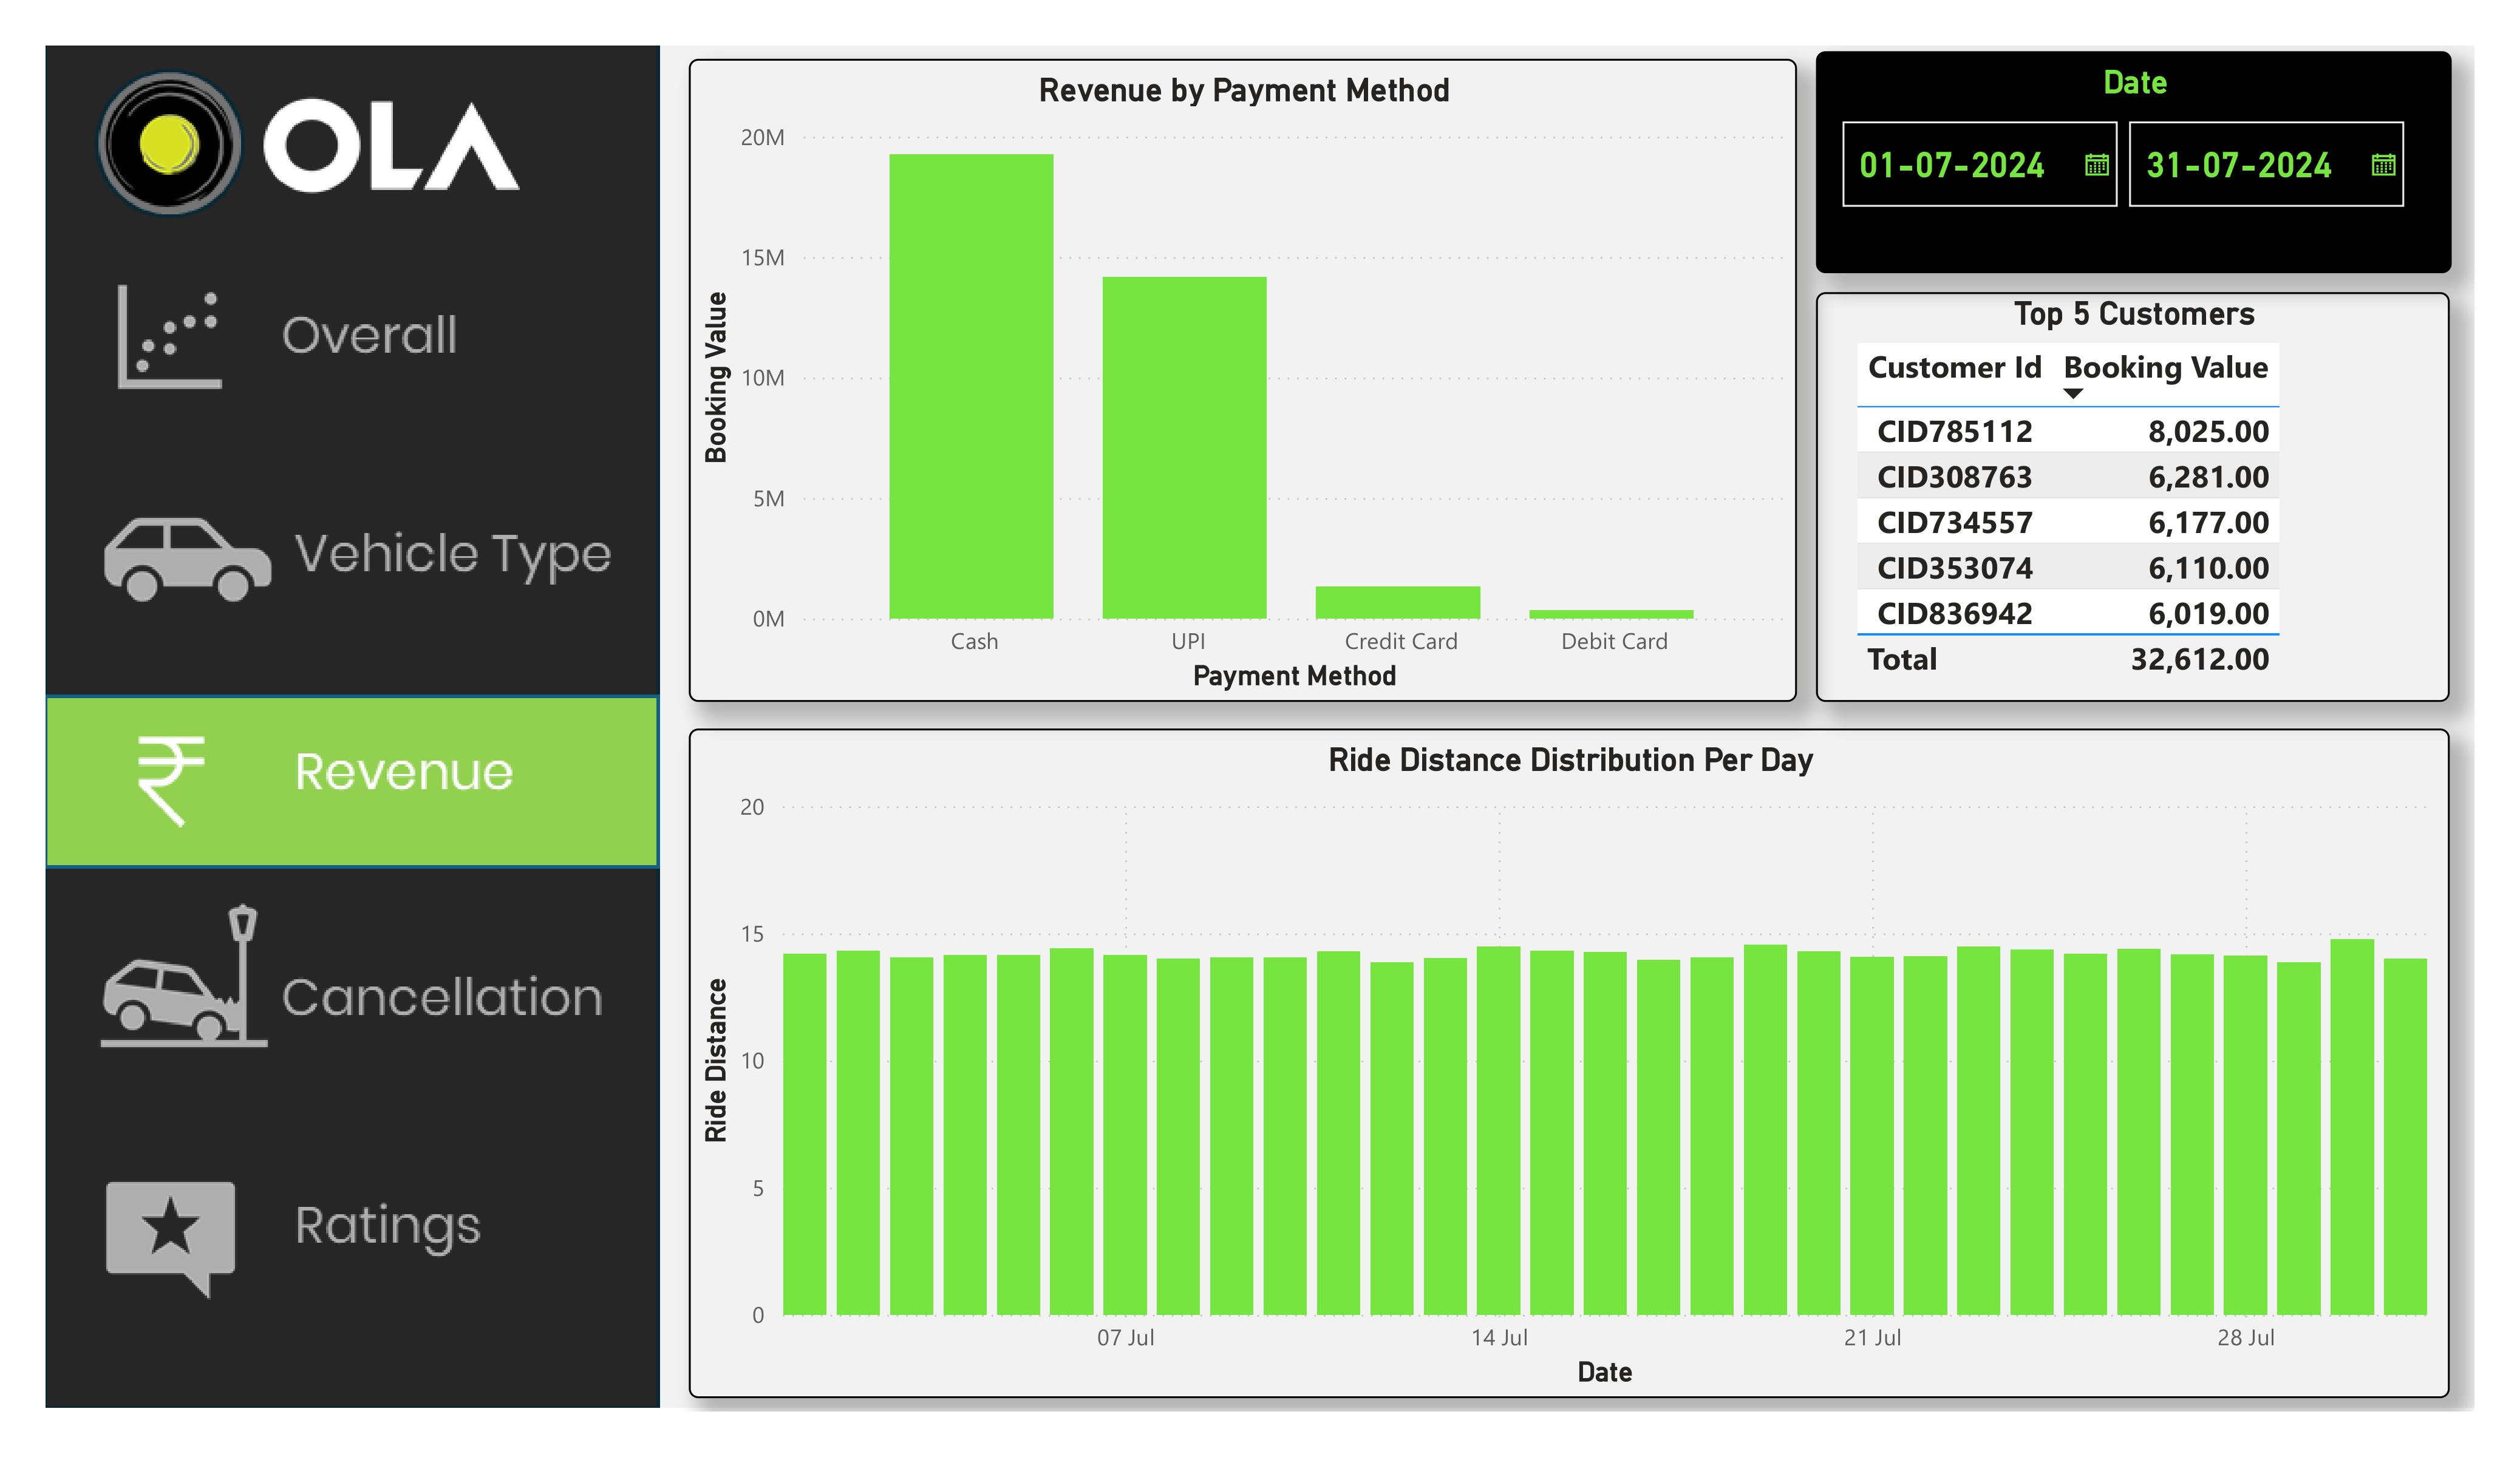

What the dashboard file says about the page in this screenshot:
{"tool":"powerbi","page":{"name":"Revenue","canvas":[1280,720],"ordinal":2},"visuals":[{"type":"actionButton","box":[0,225,325.7,90],"z":0},{"type":"actionButton","box":[0,445.7,325.7,90],"z":1000},{"type":"actionButton","box":[0,581.4,325.7,90],"z":2000},{"type":"actionButton","box":[0,108.6,325.7,90],"z":3000},{"type":"clusteredColumnChart","title":"Revenue by Payment Method","fields":{"Category":["public ola_bookings.payment_method"],"Y":["Sum(public ola_bookings.booking_value)"]},"box":[338.6,7.1,584.3,338.6],"z":4000},{"type":"clusteredColumnChart","title":"Ride Distance Distribution Per Day","fields":{"Y":["Avg(public ola_bookings.ride_distance)"],"Category":["public ola_bookings.date"]},"box":[338.6,360,928.6,352.9],"z":5000},{"type":"slicer","title":"Date","fields":{"Values":["public ola_bookings.date"]},"box":[932.5,2.5,335,117.5],"z":6000},{"type":"tableEx","title":"Top 5 Customers","fields":{"Values":["public ola_bookings.customer_id","Sum(public ola_bookings.booking_value)"]},"box":[932.9,130,334.3,215.7],"z":7000}]}

Visuals, with their boxes on the page's 1280x720 design canvas (x1, y1, x2, y2). These are canvas units, not pixel positions in the 2520x1457 screenshot, which may show the page scaled, cropped or inside an application window:
actionButton: crop(0, 225, 326, 315)
actionButton: crop(0, 446, 326, 536)
actionButton: crop(0, 581, 326, 671)
actionButton: crop(0, 109, 326, 199)
"Revenue by Payment Method" clusteredColumnChart: crop(339, 7, 923, 346)
"Ride Distance Distribution Per Day" clusteredColumnChart: crop(339, 360, 1267, 713)
"Date" slicer: crop(932, 2, 1268, 120)
"Top 5 Customers" tableEx: crop(933, 130, 1267, 346)
